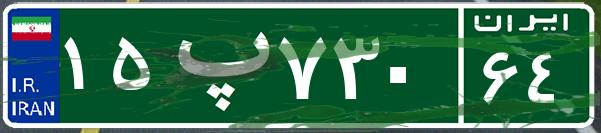0: (385, 28, 445, 110)
1: (57, 26, 110, 107)
3: (330, 28, 385, 110)
4: (525, 38, 570, 115)
5: (110, 28, 158, 105)
6: (475, 38, 525, 113)
7: (273, 28, 330, 110)
پ: (158, 15, 273, 115)
